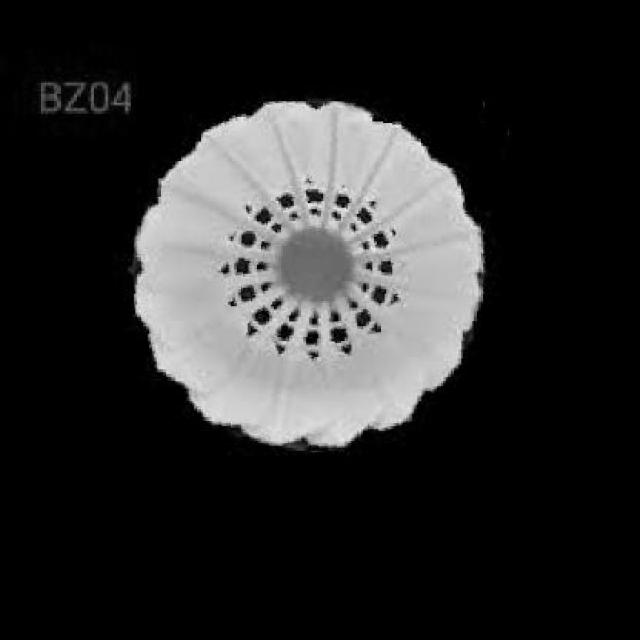Shuttlecock: (133, 100, 480, 448)
